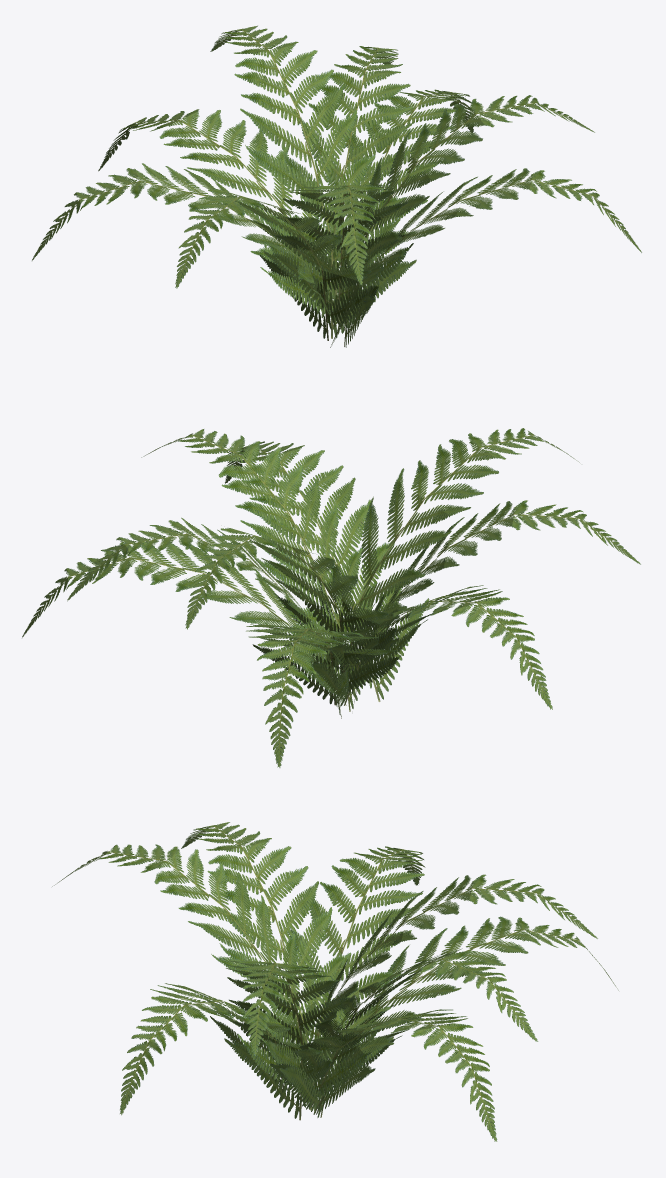
The model's file is fern.FBX.
3 renders of one model, top to bottom at view 1: azimuth 30°, elevation 25°; view 2: azimuth 150°, elevation 25°; view 3: azimuth 270°, elevation 25°, orthographic. The views are drawn at different scales.
Parts seen in each view (by area): view 1: Plane.021, Plane.026, Plane.022, Plane.019, Plane.025, Plane.024, Plane.018, Plane.023, Plane.020; view 2: Plane.019, Plane.022, Plane.023, Plane.021, Plane.025, Plane.018, Plane.020, Plane.024, Plane.026; view 3: Plane.024, Plane.019, Plane.020, Plane.022, Plane.025, Plane.018, Plane.023, Plane.026, Plane.021.
Part boxes in pixels (x1,y1,x2,y2): Plane.021: (210, 25, 400, 309); Plane.026: (264, 46, 412, 338); Plane.022: (330, 95, 594, 347); Plane.019: (263, 185, 413, 319); Plane.025: (98, 109, 360, 330); Plane.024: (175, 188, 379, 340); Plane.018: (294, 89, 473, 334); Plane.023: (330, 168, 641, 347); Plane.020: (32, 163, 336, 328); Plane.019: (318, 428, 579, 692); Plane.022: (141, 429, 385, 711); Plane.023: (225, 441, 429, 701); Plane.021: (185, 528, 396, 678); Plane.025: (246, 624, 401, 767); Plane.018: (22, 539, 346, 705); Plane.020: (310, 585, 552, 709); Plane.024: (353, 500, 640, 704); Plane.026: (67, 517, 348, 718); Plane.024: (181, 822, 367, 1110); Plane.019: (52, 844, 331, 1086); Plane.020: (261, 846, 425, 1110); Plane.022: (224, 960, 369, 1120); Plane.025: (314, 916, 618, 1114); Plane.018: (270, 1009, 497, 1141); Plane.023: (120, 983, 332, 1115); Plane.026: (279, 948, 538, 1117); Plane.021: (314, 874, 597, 1068).
Size of the model in its own units: 45.16 by 18.45 by 44.79.
Materials: 1 (1 with a texture image).
